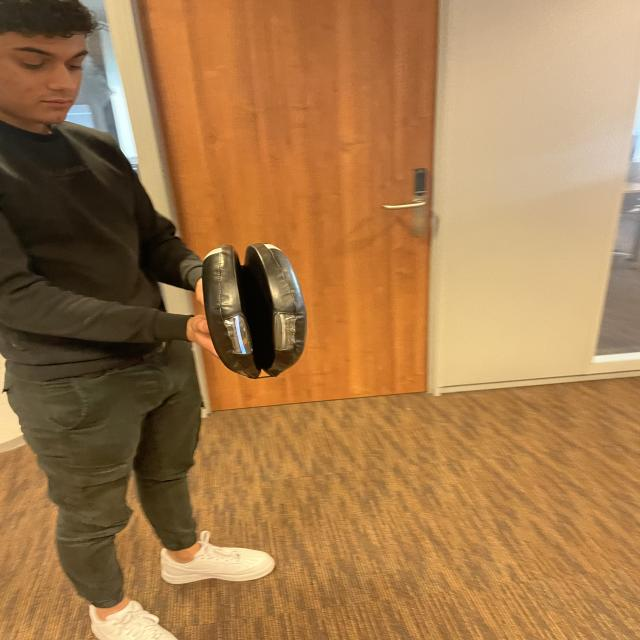paddle: (207, 240, 296, 376)
trigger: (230, 313, 248, 357)
